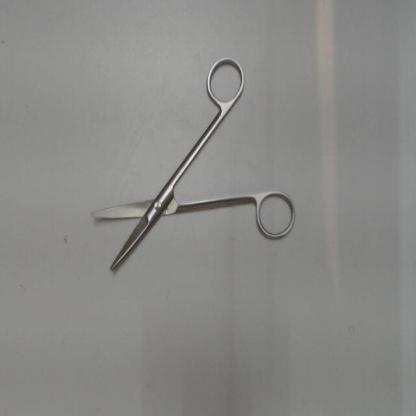Curved Mayo Scissors: (85, 50, 302, 281)
